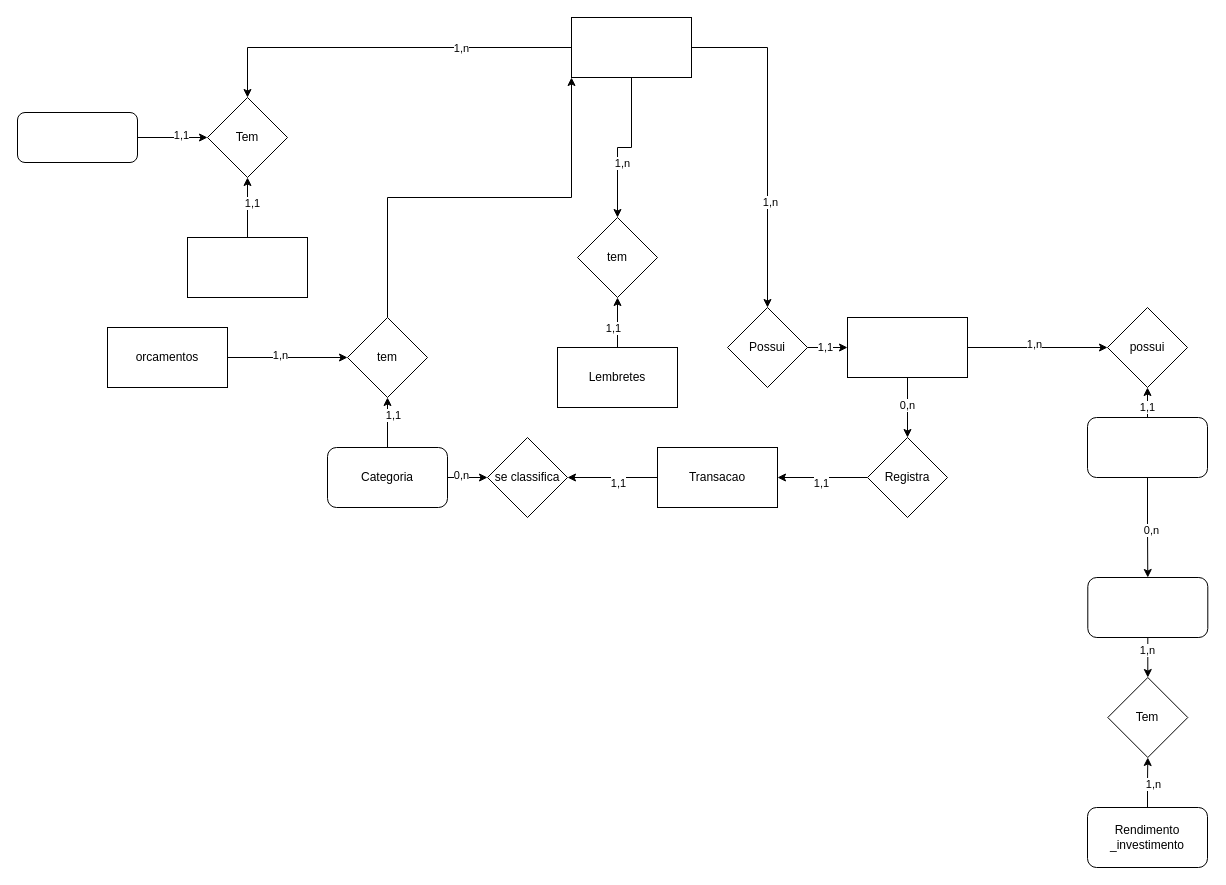
Image size: 1226x885. Some labels were removed from this diagram. Here are the shapes that lost their labels. From the top down, the centre of each, then its label:
[631,47]: Usuario
[77,137]: Configuracao_usuario
[247,267]: Meta financeira
[907,347]: Conta_bancaria
[1147,447]: Conta_investimento
[1147,607]: Investimentos
